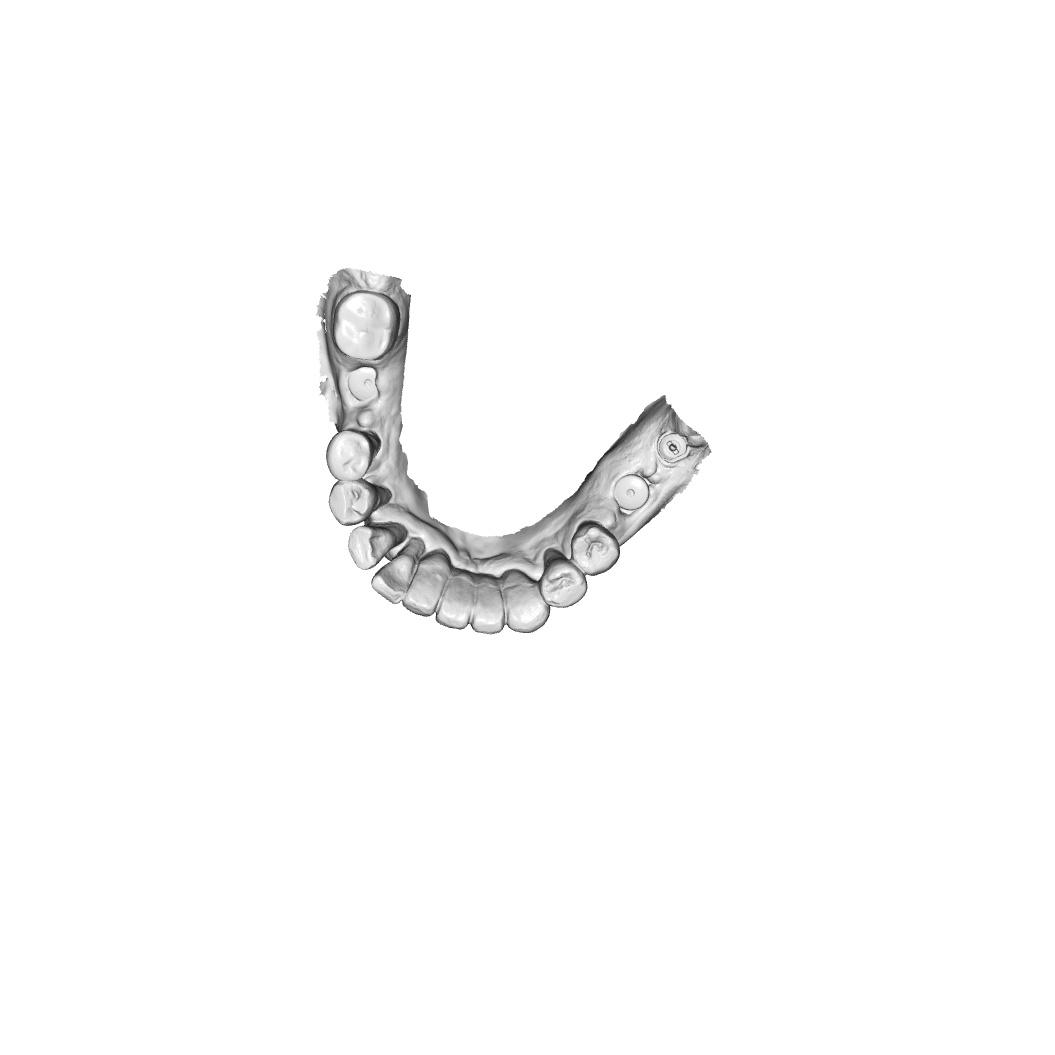canine: (500, 579, 551, 635), (345, 524, 399, 572)
implant: (345, 364, 383, 404), (612, 473, 650, 512)
implant_minus: (655, 428, 692, 466)
incisor: (369, 551, 417, 608), (401, 562, 444, 619), (434, 576, 474, 632), (469, 585, 508, 636)
molar: (329, 287, 402, 363)
premolar: (569, 518, 622, 577), (323, 428, 377, 483), (538, 557, 589, 610), (327, 479, 378, 527)
